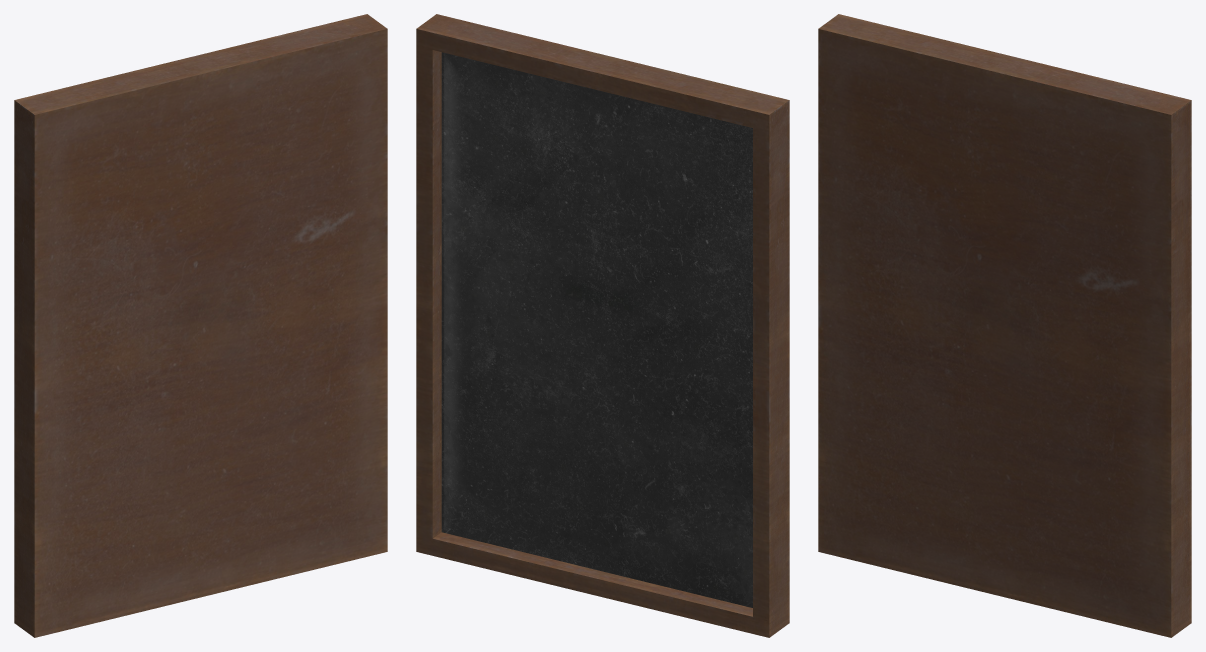
File: blackboard.fbx
The picture shows the model from 3 angles, left to right: view 1: azimuth 30°, elevation 25°; view 2: azimuth 150°, elevation 25°; view 3: azimuth 330°, elevation 25°; orthographic projection.
Visible parts, largest first — view 1: Plane; view 2: Plane; view 3: Plane.
Boxes of the visible parts, x1,y1,x2,y2 form: Plane: (14,14,387,637); Plane: (416,14,789,637); Plane: (818,14,1191,637).
Bounding box in the file's own units: 5940 × 8410 × 591.
1 material, 1 textured.
